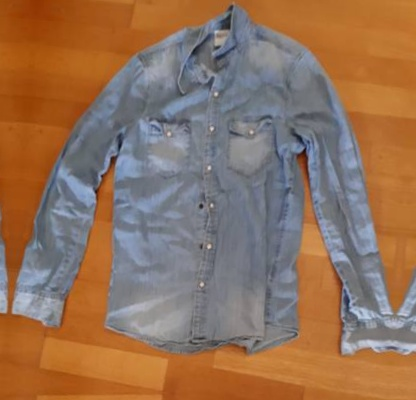Blazer: (15, 0, 416, 378), (0, 0, 29, 343), (390, 29, 416, 400)
